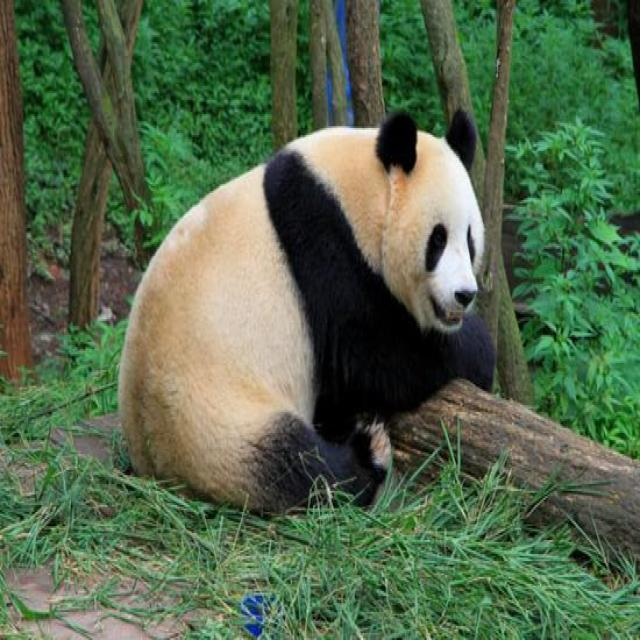panda: (123, 96, 534, 513)
